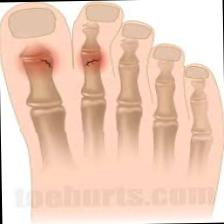stress-fracture: (18, 19, 136, 132)
